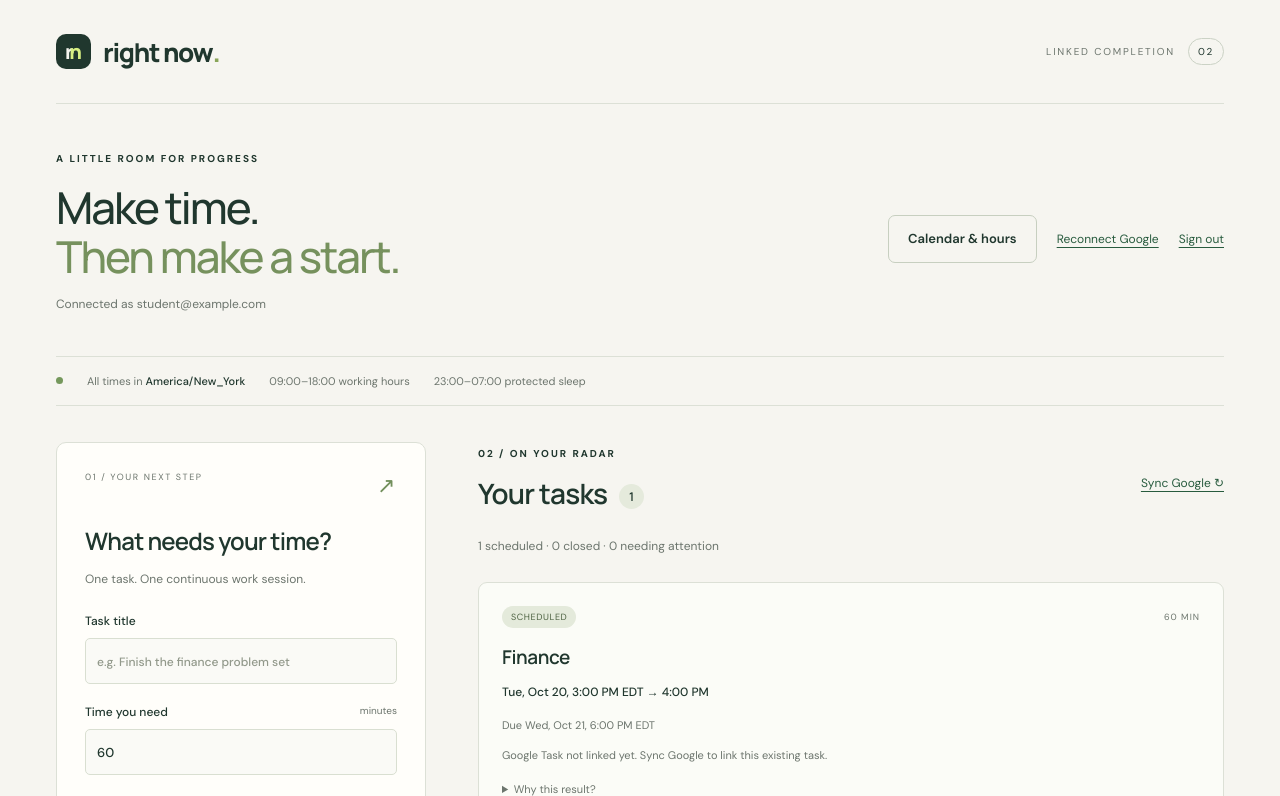
Test: Signed-in structured task form › follows sync cursors on manual refresh and displays completion
Click the button "Sync Google ↻" at (1182, 483), box [1141, 471, 1224, 495]
(page scrolled)
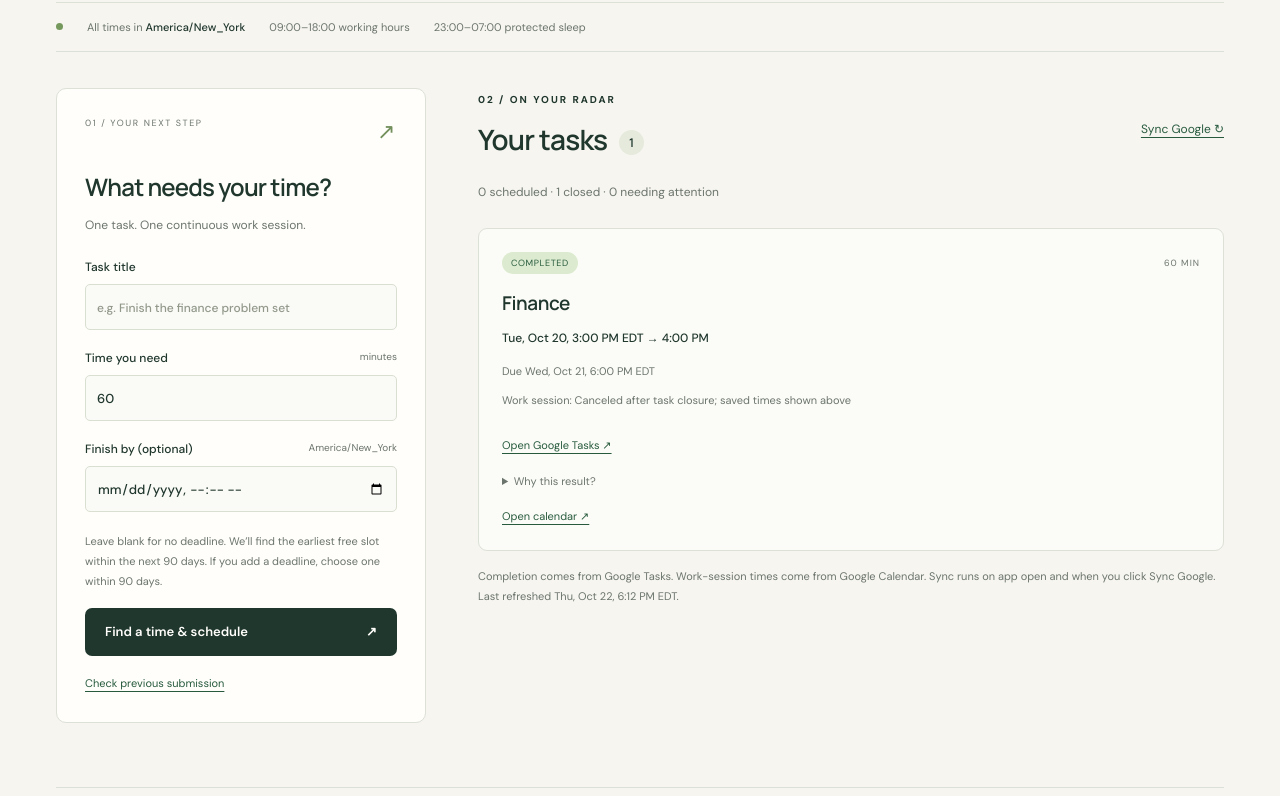
Now the text "Completed" is shown, box [502, 252, 578, 274]
Now the text "Canceled after task closure" is shown, box [575, 393, 851, 407]
